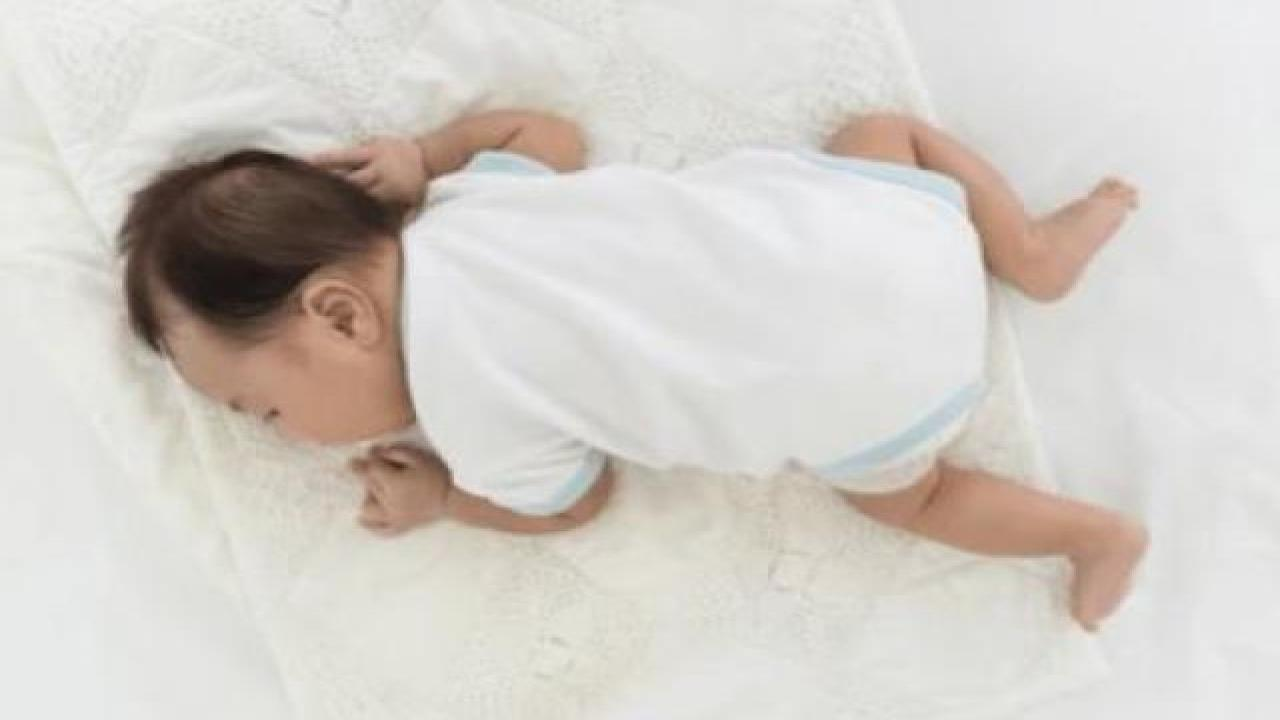hand: (332, 442, 466, 534), (320, 132, 435, 214)
